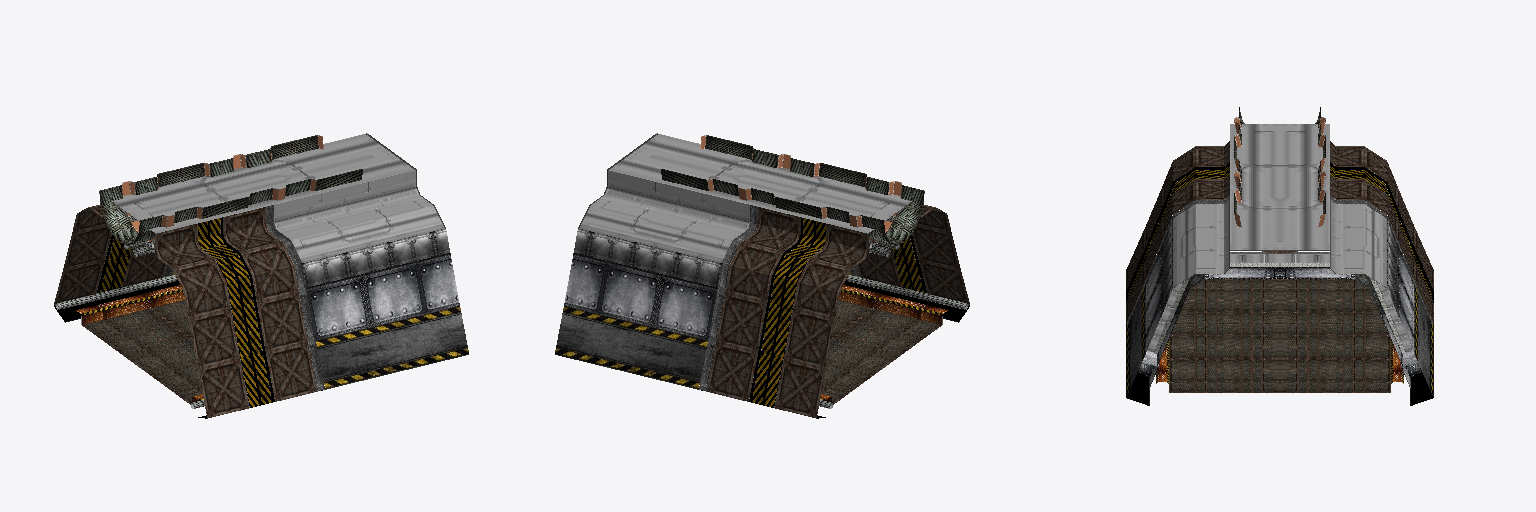
3 renders of one model, left to right at view 1: azimuth 30°, elevation 25°; view 2: azimuth 150°, elevation 25°; view 3: azimuth 270°, elevation 25°, orthographic.
Size of the model in its own units: 2.86 by 1.68 by 2.8.
Materials: 1 (1 with a texture image).